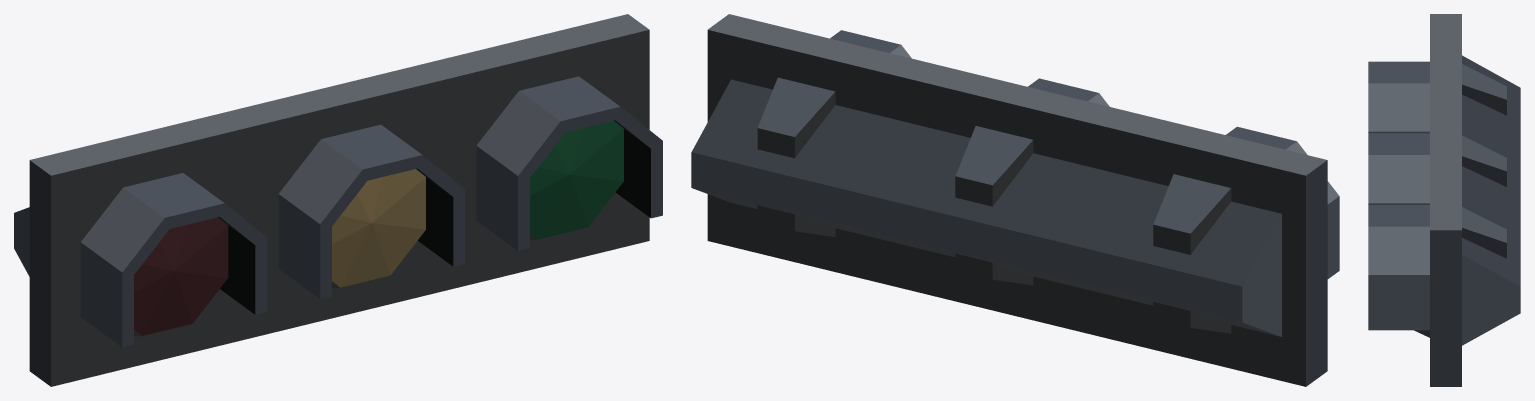
File: TB_CITY_Prop_TrafficLight_C_Black.FBX
The picture shows the model from 3 angles, left to right: view 1: azimuth 30°, elevation 25°; view 2: azimuth 150°, elevation 25°; view 3: azimuth 270°, elevation 25°; orthographic projection. The views are drawn at different scales.
Visible parts, largest first — view 1: TB_CITY_Prop_TrafficLight_C_Black; view 2: TB_CITY_Prop_TrafficLight_C_Black; view 3: TB_CITY_Prop_TrafficLight_C_Black.
Part boxes in pixels (x1,y1,x2,y2): TB_CITY_Prop_TrafficLight_C_Black: (14,14,662,386); TB_CITY_Prop_TrafficLight_C_Black: (691,14,1339,386); TB_CITY_Prop_TrafficLight_C_Black: (1368,14,1520,386).
Bounding box in the file's own units: 3.04 × 1.03 × 0.9038.
